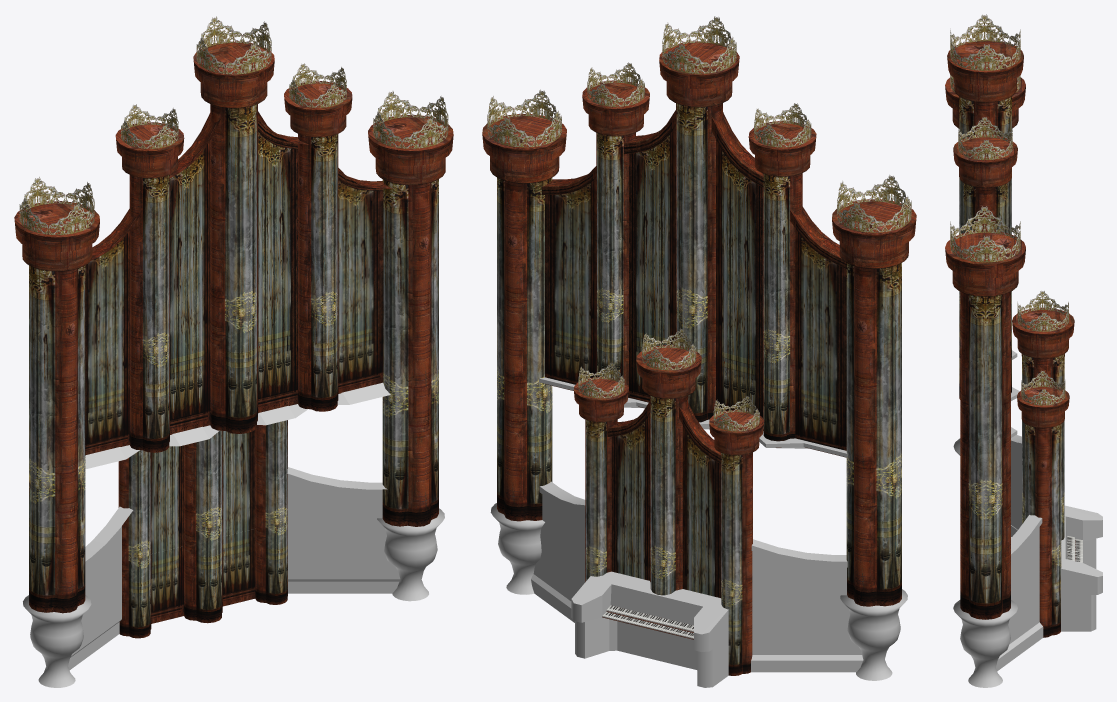
Rendered from ChurchOrgan.fbx.
3 renders of one model, left to right at view 1: azimuth 30°, elevation 25°; view 2: azimuth 150°, elevation 25°; view 3: azimuth 270°, elevation 25°, orthographic. The views are drawn at different scales.
Visible parts, largest first — view 1: ChurchOrgan; view 2: ChurchOrgan; view 3: ChurchOrgan.
Part boxes in pixels (x1=…): ChurchOrgan: x1=14, y1=16, x2=453, y2=687; ChurchOrgan: x1=482, y1=16, x2=916, y2=687; ChurchOrgan: x1=945, y1=14, x2=1102, y2=687.
Size of the model in its own units: 7.93 by 10.75 by 2.69.
